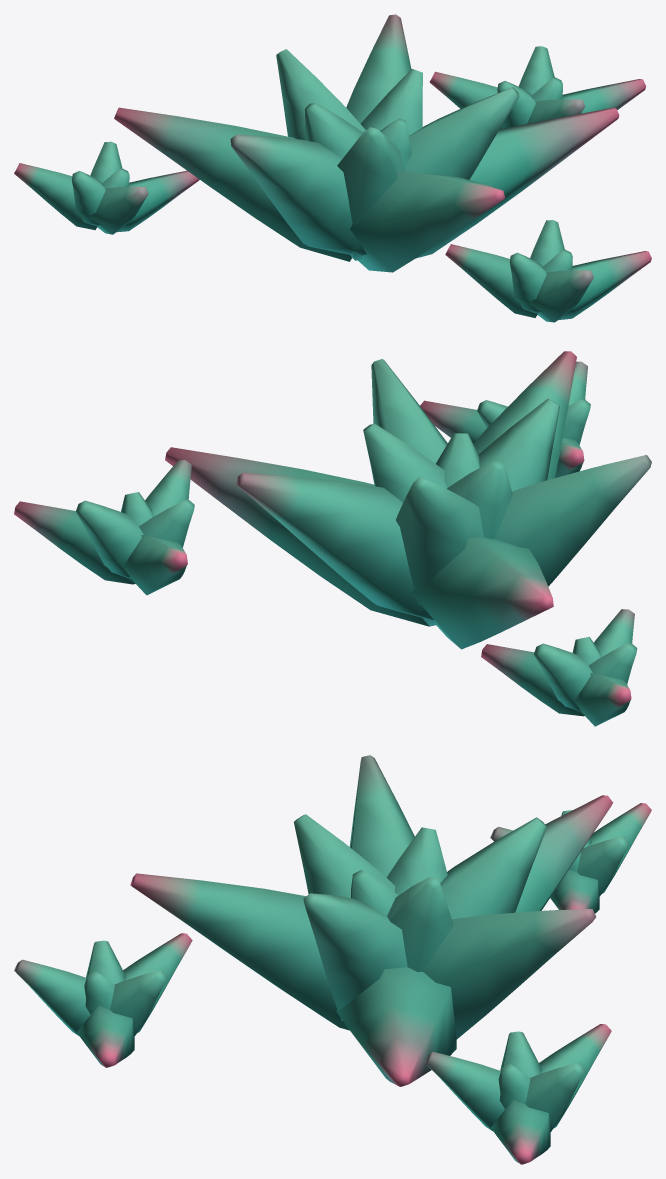
Rendered from verdant_bush_succulent.glb.
3 renders of one model, top to bottom at view 1: azimuth 30°, elevation 25°; view 2: azimuth 150°, elevation 25°; view 3: azimuth 270°, elevation 25°, orthographic. The views are drawn at different scales.
Parts seen in each view (by area): view 1: verdant_bush_succulent; view 2: verdant_bush_succulent; view 3: verdant_bush_succulent.
Part boxes in pixels (left/top/right/bottom): verdant_bush_succulent: left=14, top=14, right=651, bottom=322; verdant_bush_succulent: left=14, top=351, right=651, bottom=726; verdant_bush_succulent: left=14, top=755, right=651, bottom=1164.
Bounding box in the file's own units: 2.27 × 0.671 × 1.84.
